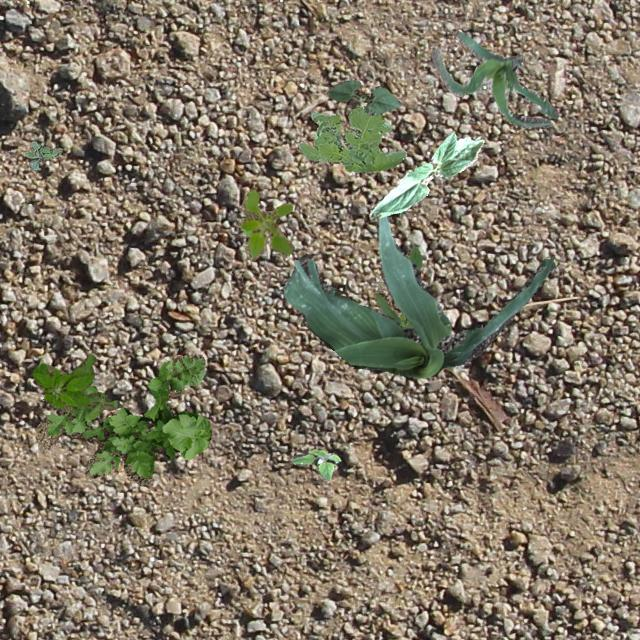crop: (282, 214, 554, 376), (432, 30, 558, 126), (368, 130, 482, 218), (374, 244, 422, 326), (326, 80, 399, 114)
weed: (34, 354, 210, 484), (297, 106, 405, 172), (31, 354, 120, 418), (240, 188, 292, 260), (290, 448, 340, 480), (22, 140, 62, 170)
